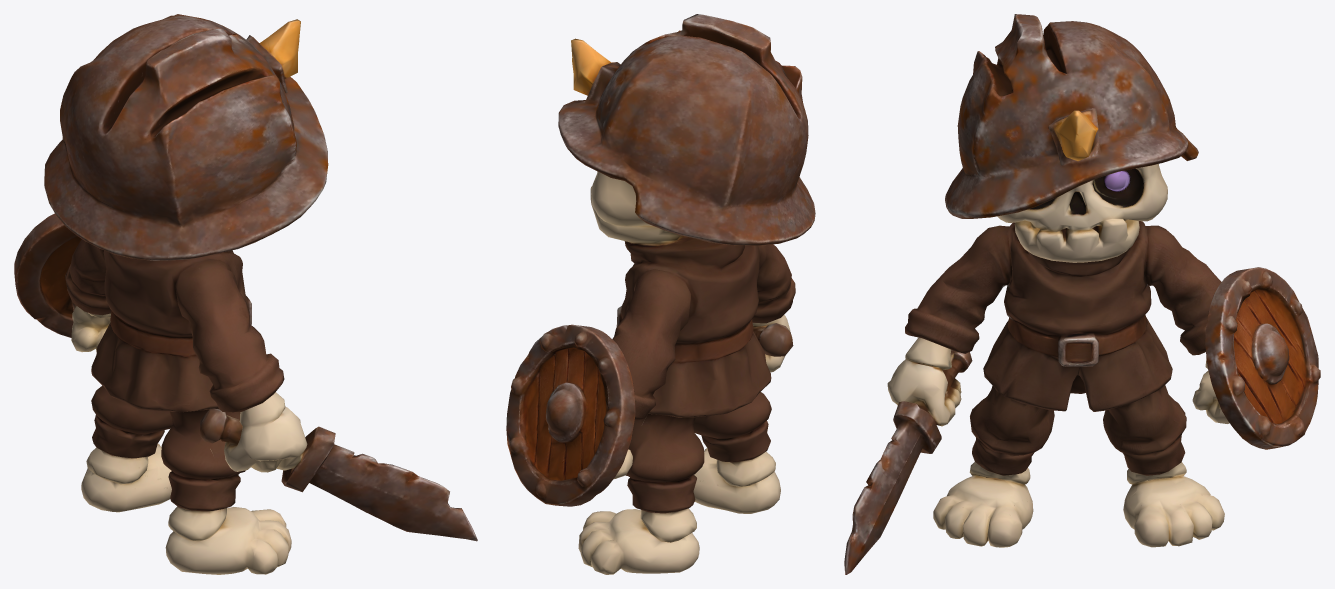
File: SkeletonClothed_raw.glb
The picture shows the model from 3 angles, left to right: view 1: azimuth 30°, elevation 25°; view 2: azimuth 150°, elevation 25°; view 3: azimuth 270°, elevation 25°; orthographic projection. The views are drawn at different scales.
Parts seen in each view (by area): view 1: tripo_node_7933a6c8-84d2-441a-974a-f9d30c436611; view 2: tripo_node_7933a6c8-84d2-441a-974a-f9d30c436611; view 3: tripo_node_7933a6c8-84d2-441a-974a-f9d30c436611.
Boxes of the visible parts, x1,y1,x2,y2 form: tripo_node_7933a6c8-84d2-441a-974a-f9d30c436611: [14, 14, 477, 574]; tripo_node_7933a6c8-84d2-441a-974a-f9d30c436611: [506, 14, 815, 574]; tripo_node_7933a6c8-84d2-441a-974a-f9d30c436611: [844, 14, 1320, 574].
Bounding box in the file's own units: 0.6008 × 1 × 0.874.
1 material, 1 textured.
